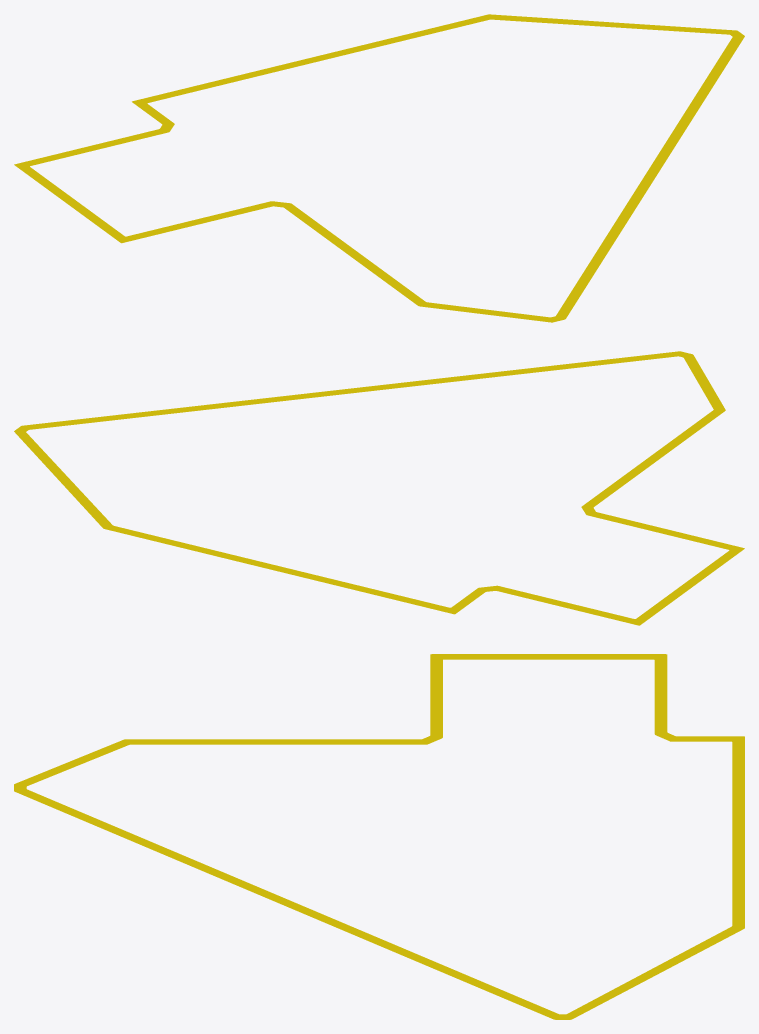
File: SharedDecalBalconyB.fbx
3 views of the same model, one above another, from view 1: azimuth 30°, elevation 25°; view 2: azimuth 150°, elevation 25°; view 3: azimuth 270°, elevation 25° (orthographic). The views are drawn at different scales.
Visible parts, largest first — view 1: SharedDecalBalconyB001; view 2: SharedDecalBalconyB001; view 3: SharedDecalBalconyB001.
Part boxes in pixels (left/top/right/bottom): SharedDecalBalconyB001: left=14, top=14, right=744, bottom=322; SharedDecalBalconyB001: left=14, top=351, right=744, bottom=625; SharedDecalBalconyB001: left=14, top=654, right=744, bottom=1019.
Size of the model in its own units: 1023 by 2.38e-07 by 864.
